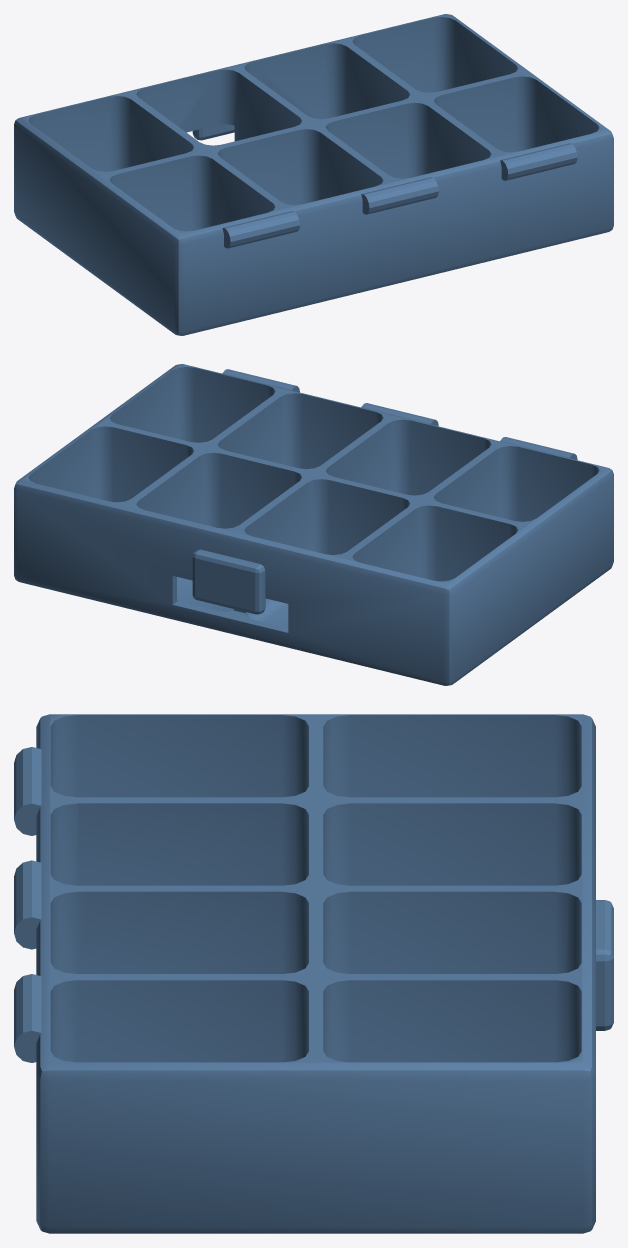
File: organizer.glb
3 renders of one model, top to bottom at view 1: azimuth 30°, elevation 25°; view 2: azimuth 150°, elevation 25°; view 3: azimuth 270°, elevation 25°, orthographic. The views are drawn at different scales.
Parts seen in each view (by area): view 1: organizer, organizer_hinges, organizer_clasp; view 2: organizer, organizer_clasp, organizer_hinges; view 3: organizer, organizer_hinges, organizer_clasp.
Boxes of the visible parts, x1,y1,x2,y2 form: organizer: (14, 14, 613, 335); organizer_hinges: (222, 143, 577, 248); organizer_clasp: (192, 124, 234, 140); organizer: (14, 364, 613, 685); organizer_clasp: (192, 549, 265, 614); organizer_hinges: (222, 369, 577, 460); organizer: (36, 714, 595, 1233); organizer_hinges: (14, 747, 41, 1062); organizer_clasp: (596, 900, 613, 1030).
Bounding box in the file's own units: 0.19 × 0.042 × 0.134.
